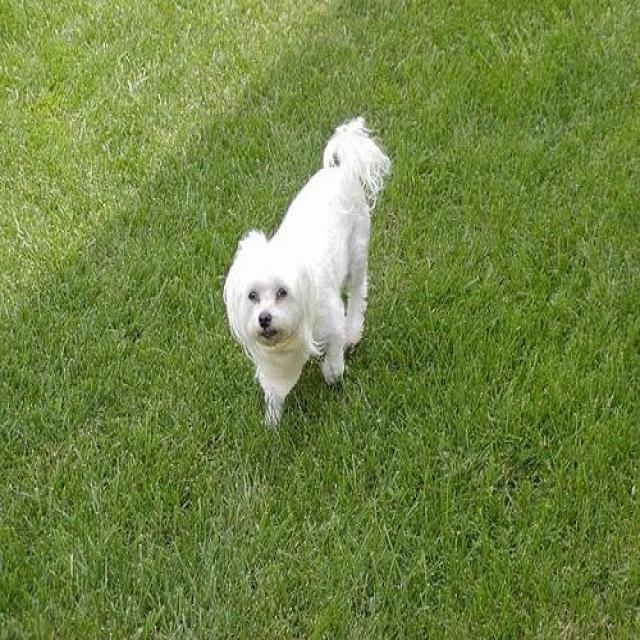good: (221, 117, 390, 422)
